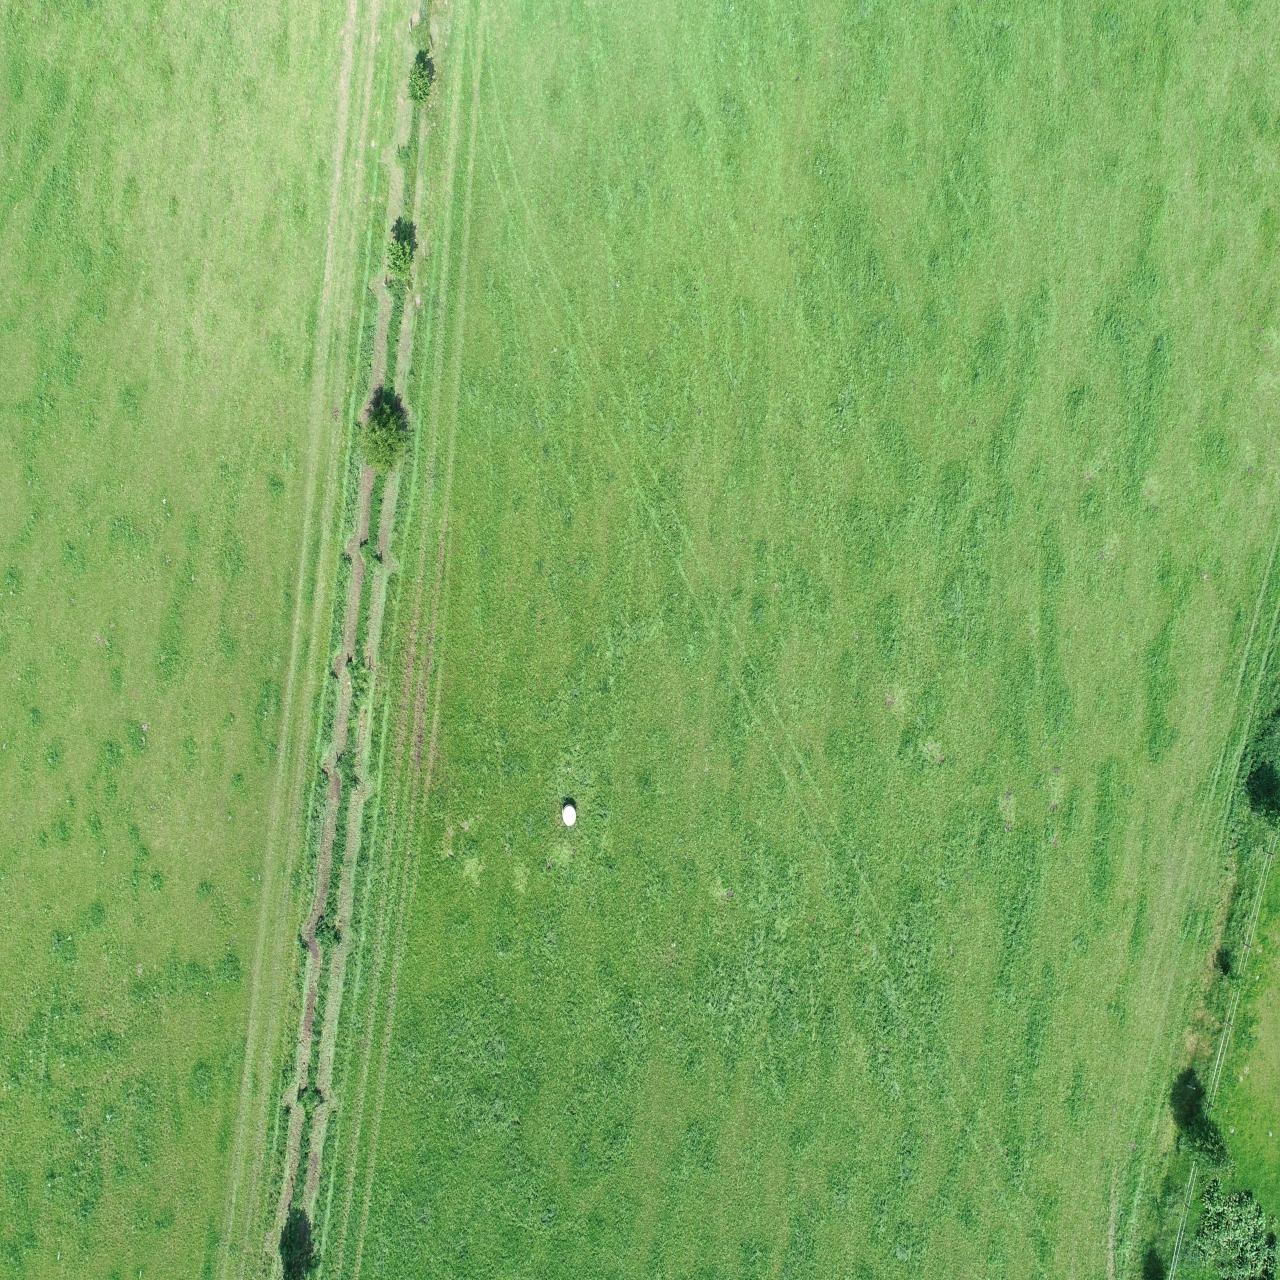cow: (1139, 46, 1184, 126), (1029, 266, 1054, 343), (610, 748, 637, 816), (819, 197, 836, 267)
